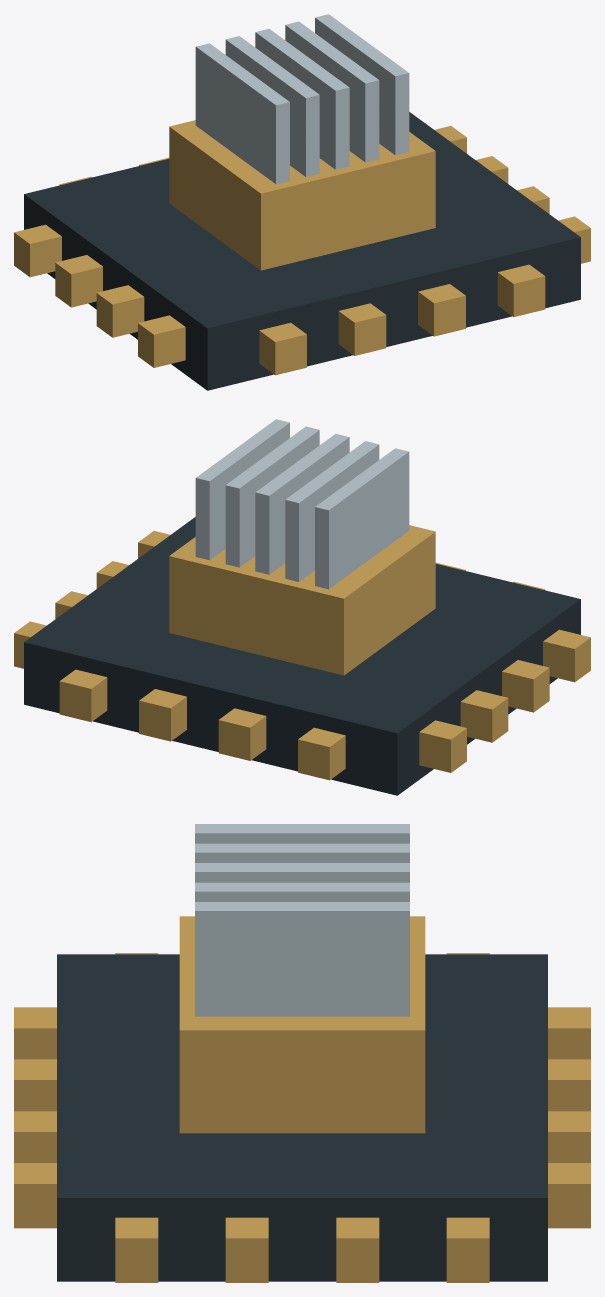
Rendered from plugin-lightweight-core.glb.
3 views of the same model, one above another, from view 1: azimuth 30°, elevation 25°; view 2: azimuth 150°, elevation 25°; view 3: azimuth 270°, elevation 25° (orthographic). The views are drawn at different scales.
Parts seen in each view (by area): view 1: plugin circuit substrate, processor block, heatsink fin, heatsink fin.003, heatsink fin.004, heatsink fin.002, heatsink fin.001, gold edge connector.011, gold edge connector.009, gold edge connector, gold edge connector.010, gold edge connector.008 (+4 smaller); view 2: plugin circuit substrate, processor block, heatsink fin, heatsink fin.003, heatsink fin.004, heatsink fin.002, heatsink fin.001, gold edge connector.015, gold edge connector.013, gold edge connector.003, gold edge connector.014, gold edge connector.012 (+4 smaller); view 3: plugin circuit substrate, processor block, heatsink fin.004, heatsink fin, heatsink fin.001, heatsink fin.002, heatsink fin.003, gold edge connector.004, gold edge connector.005, gold edge connector.006, gold edge connector.007, gold edge connector.011 (+7 smaller).
Part boxes in pixels (left/top/right/bottom): plugin circuit substrate: left=24, top=112, right=580, bottom=390; processor block: left=169, top=120, right=435, bottom=270; heatsink fin: left=195, top=43, right=289, bottom=184; heatsink fin.003: left=285, top=21, right=379, bottom=162; heatsink fin.004: left=315, top=14, right=409, bottom=155; heatsink fin.002: left=255, top=29, right=349, bottom=169; heatsink fin.001: left=225, top=36, right=319, bottom=176; gold edge connector.011: left=497, top=264, right=545, bottom=317; gold edge connector.009: left=338, top=303, right=386, bottom=355; gold edge connector: left=138, top=315, right=185, bottom=367; gold edge connector.010: left=418, top=284, right=465, bottom=336; gold edge connector.008: left=259, top=322, right=306, bottom=375; plugin circuit substrate: left=24, top=517, right=580, bottom=795; processor block: left=169, top=525, right=435, bottom=675; heatsink fin: left=315, top=448, right=409, bottom=589; heatsink fin.003: left=225, top=426, right=319, bottom=567; heatsink fin.004: left=195, top=419, right=289, bottom=560; heatsink fin.002: left=255, top=434, right=349, bottom=574; heatsink fin.001: left=285, top=441, right=379, bottom=581; gold edge connector.015: left=59, top=669, right=107, bottom=722; gold edge connector.013: left=218, top=708, right=266, bottom=760; gold edge connector.003: left=419, top=720, right=466, bottom=772; gold edge connector.014: left=139, top=689, right=186, bottom=741; gold edge connector.012: left=298, top=727, right=345, bottom=780; plugin circuit substrate: left=57, top=954, right=547, bottom=1281; processor block: left=179, top=916, right=425, bottom=1133; heatsink fin.004: left=195, top=902, right=409, bottom=1016; heatsink fin: left=195, top=824, right=409, bottom=843; heatsink fin.001: left=195, top=843, right=409, bottom=862; heatsink fin.002: left=195, top=863, right=409, bottom=882; heatsink fin.003: left=195, top=882, right=409, bottom=901; gold edge connector.004: left=115, top=1217, right=158, bottom=1282; gold edge connector.005: left=225, top=1217, right=268, bottom=1282; gold edge connector.006: left=336, top=1217, right=379, bottom=1282; gold edge connector.007: left=446, top=1217, right=489, bottom=1282; gold edge connector.011: left=14, top=1163, right=56, bottom=1228.
Size of the model in its own units: 1.1 by 0.525 by 0.94.
